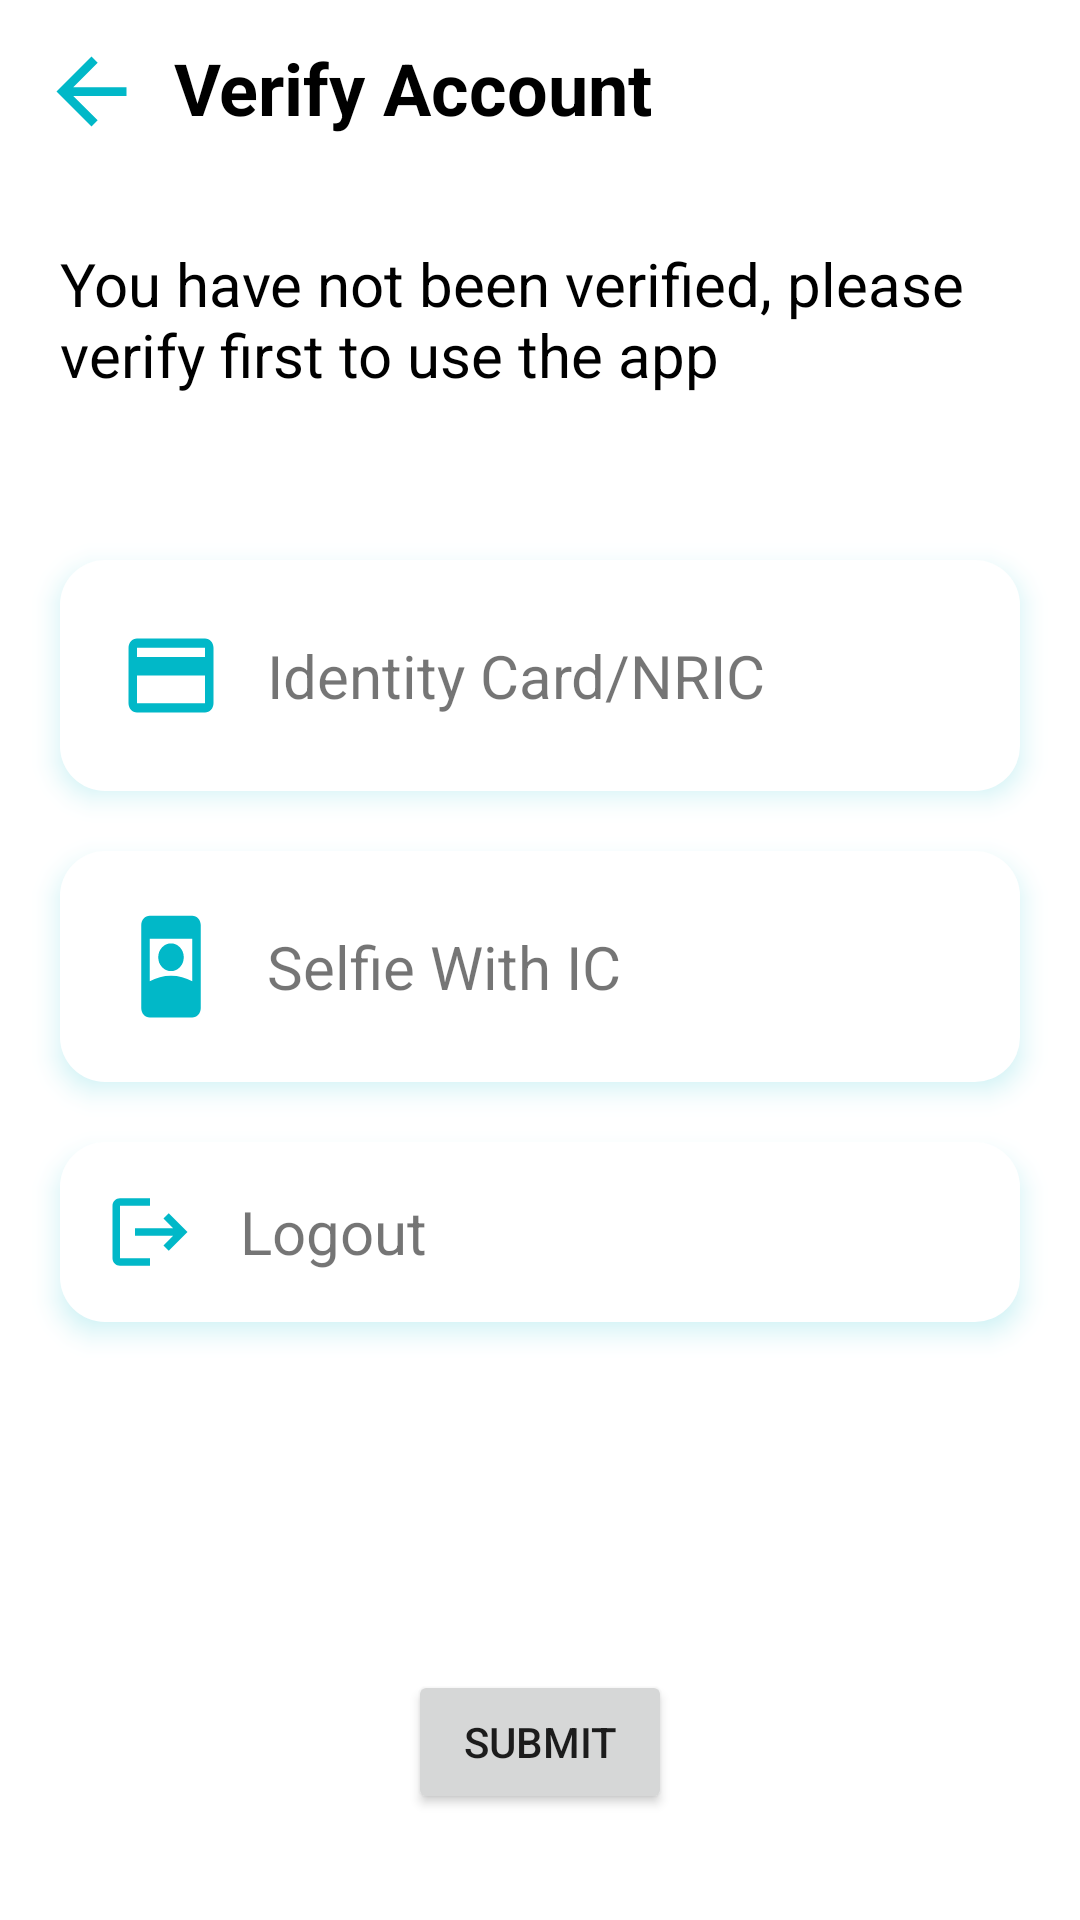

Where to tap for icons on this 1080px x 1920px app screen, as [x,y]:
arrow back: [91,91]
